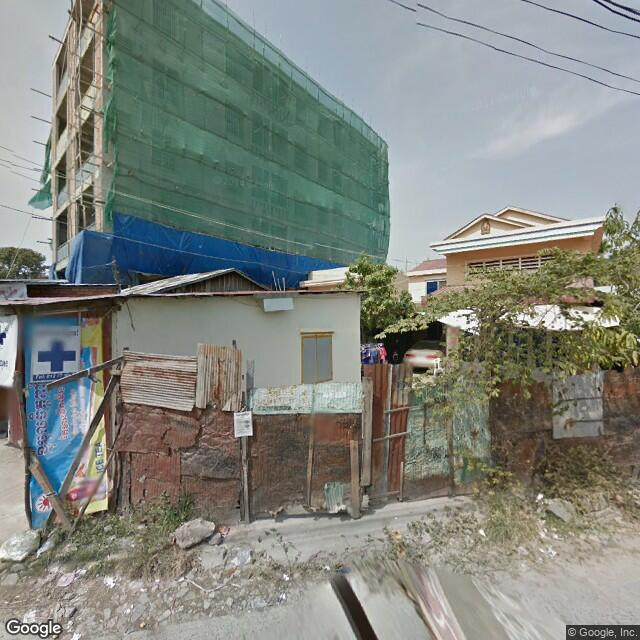litter: (409, 518, 533, 551), (154, 519, 229, 549), (534, 491, 571, 531), (52, 601, 79, 629), (49, 570, 84, 589), (23, 610, 41, 625)
